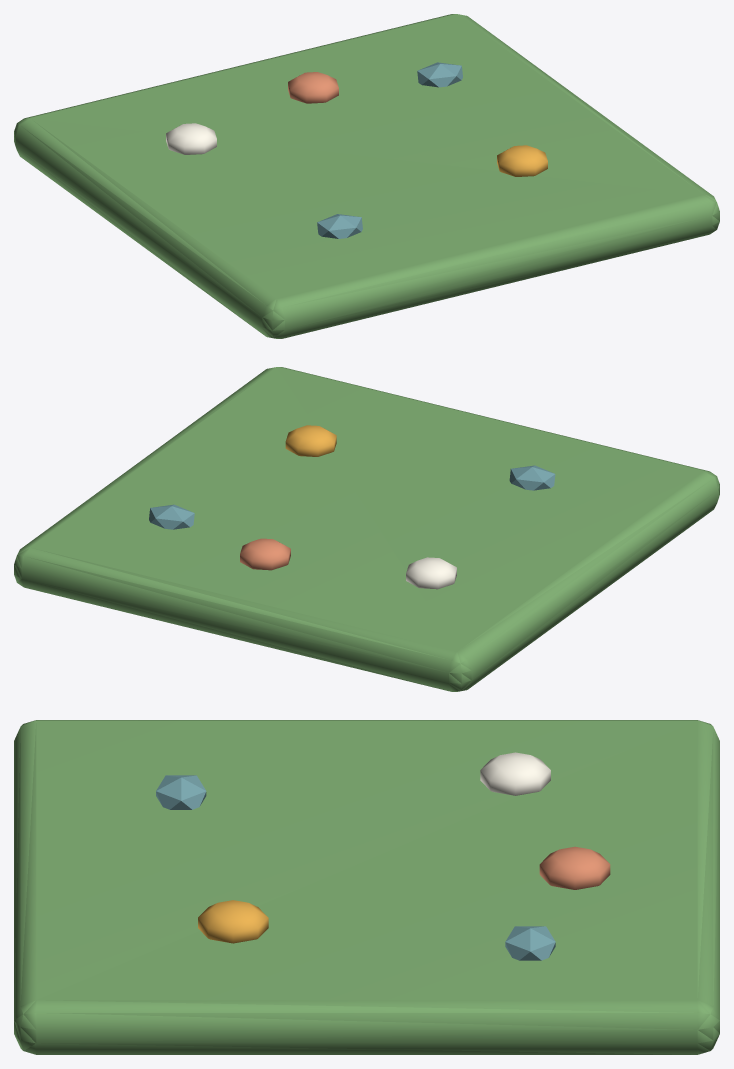
File: DW_Tile_B.fbx
3 views of the same model, one above another, from view 1: azimuth 30°, elevation 25°; view 2: azimuth 150°, elevation 25°; view 3: azimuth 270°, elevation 25° (orthographic). The views are drawn at different scales.
Parts seen in each view (by area): view 1: DW_Tile_B; view 2: DW_Tile_B; view 3: DW_Tile_B.
Part boxes in pixels (x1,y1,x2,y2): DW_Tile_B: [14, 14, 719, 338]; DW_Tile_B: [14, 367, 719, 691]; DW_Tile_B: [14, 720, 719, 1054].
Size of the model in its own units: 0.95 by 0.115 by 0.95.
